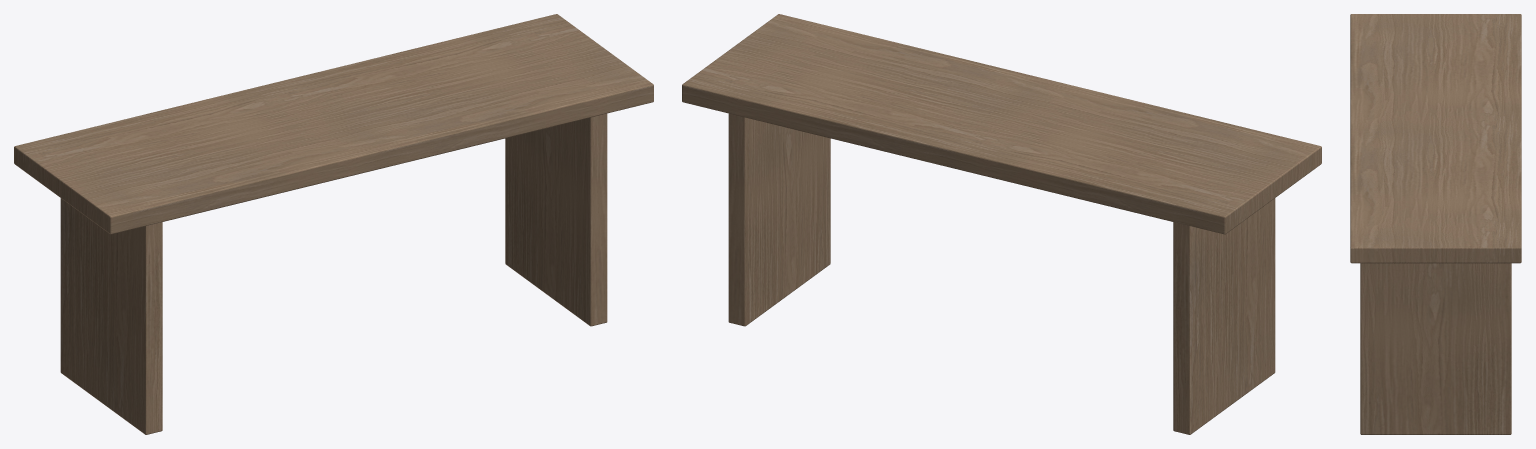
The model's file is banco_madera.glb.
The picture shows the model from 3 angles, left to right: view 1: azimuth 30°, elevation 25°; view 2: azimuth 150°, elevation 25°; view 3: azimuth 270°, elevation 25°; orthographic projection. The views are drawn at different scales.
Parts seen in each view (by area): view 1: BancoMadera; view 2: BancoMadera; view 3: BancoMadera.
Part boxes in pixels (<box>): BancoMadera: <box>14,14,653,434</box>; BancoMadera: <box>682,14,1321,434</box>; BancoMadera: <box>1350,14,1521,434</box>.
Size of the model in its own units: 1.1 by 0.45 by 0.34.
1 material, 1 textured.
